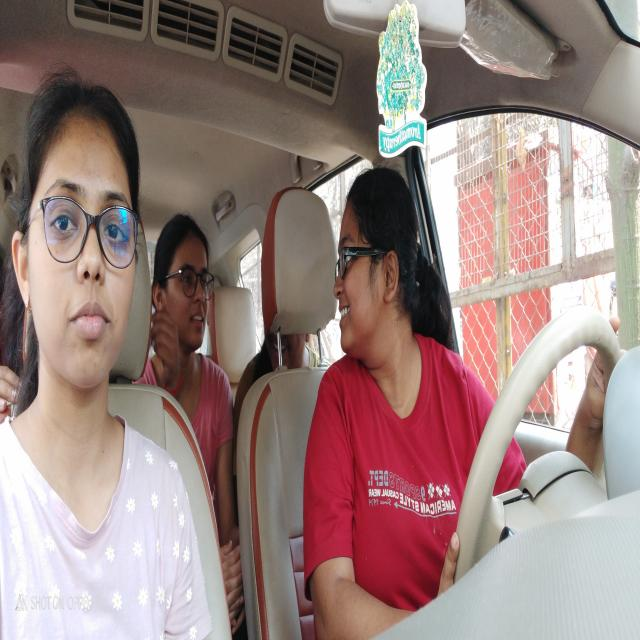LeftRight: (333, 186, 413, 362)
person: (36, 96, 138, 391), (158, 222, 214, 343)
talking: (338, 302, 352, 323)
